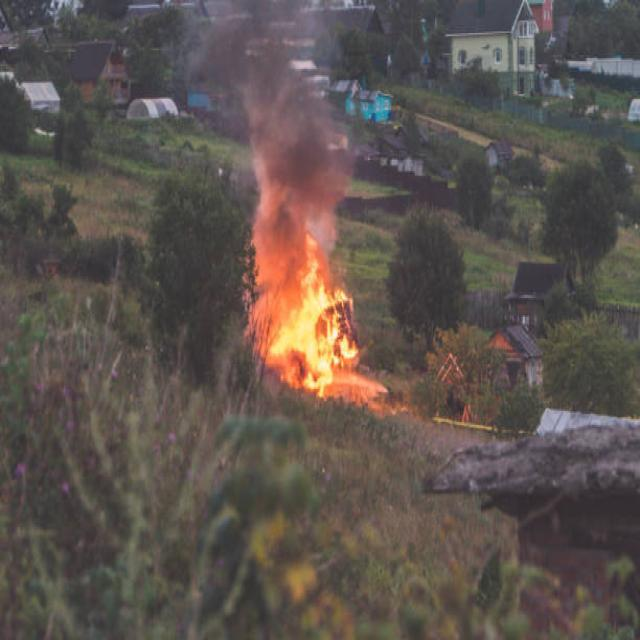Fire: (251, 230, 358, 392)
Smoke: (221, 8, 343, 266)
